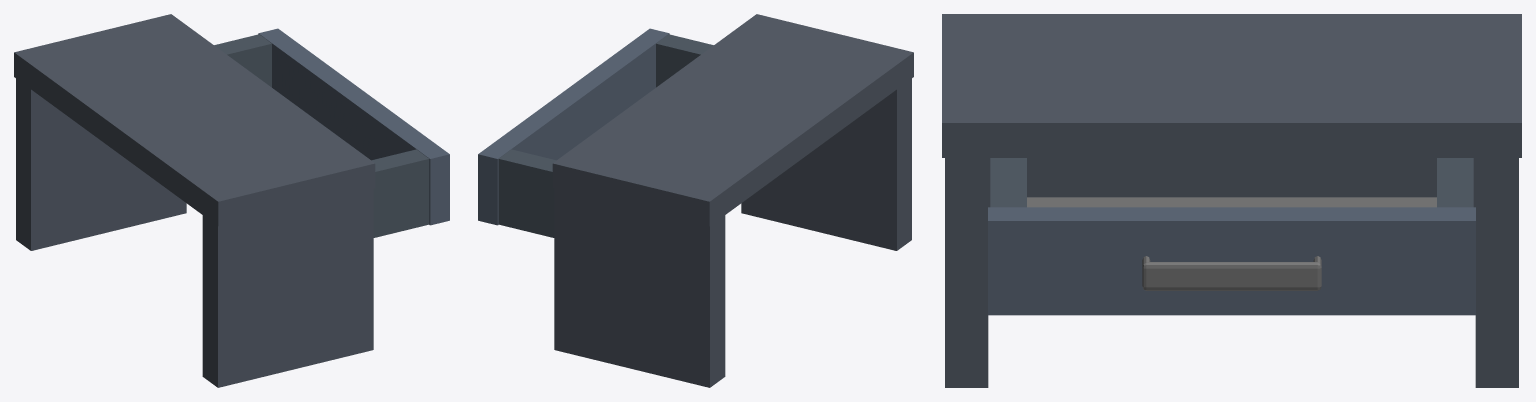
The model's file is LAB_DRAWERS.glb.
3 renders of one model, left to right at view 1: azimuth 30°, elevation 25°; view 2: azimuth 150°, elevation 25°; view 3: azimuth 270°, elevation 25°, orthographic. The views are drawn at different scales.
Parts seen in each view (by area): view 1: Cube.002, Cube.005; view 2: Cube.002, Cube.005; view 3: Cube.002, Cube.005.
Part boxes in pixels (left/top/right/bottom): Cube.002: left=14, top=14, right=375, bottom=387; Cube.005: left=214, top=28, right=449, bottom=237; Cube.002: left=552, top=14, right=913, bottom=387; Cube.005: left=478, top=28, right=713, bottom=237; Cube.002: left=942, top=14, right=1521, bottom=387; Cube.005: left=988, top=158, right=1475, bottom=315.
Bounding box in the file's own units: 1.65 × 1.14 × 2.25.
